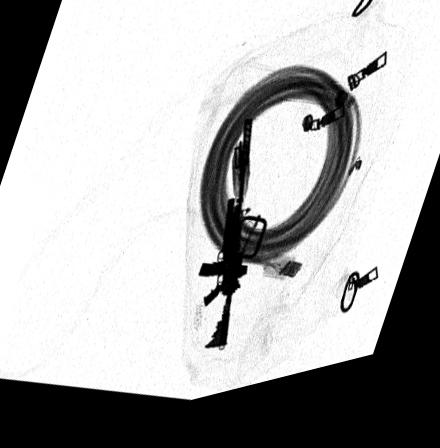Gun: (198, 130, 258, 358)
